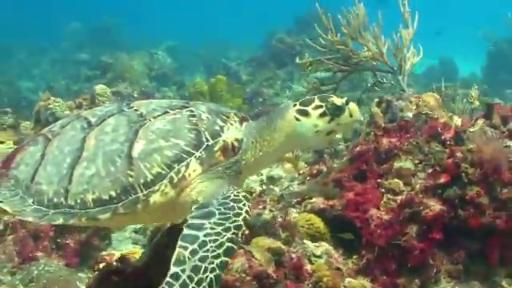Fish: (0, 96, 361, 287)
